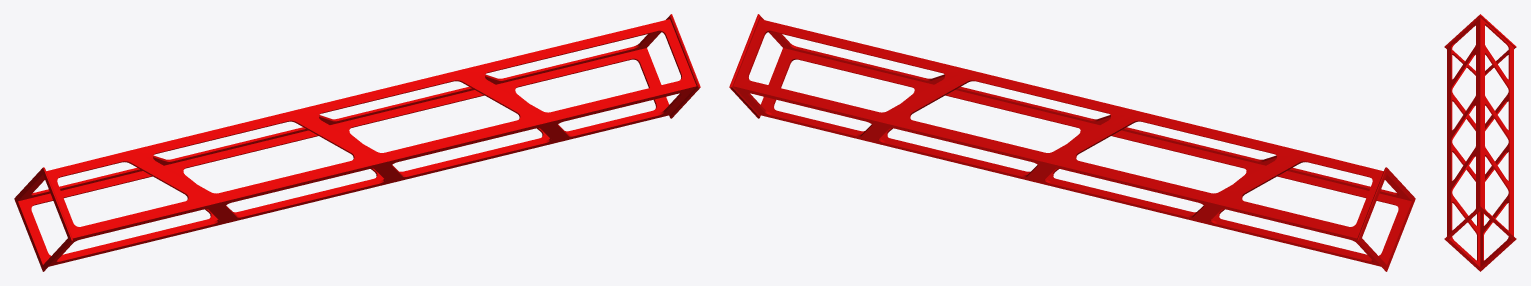
File: Support_1.fbx
3 views of the same model, side by side, from view 1: azimuth 30°, elevation 25°; view 2: azimuth 150°, elevation 25°; view 3: azimuth 270°, elevation 25° (orthographic). The views are drawn at different scales.
Parts seen in each view (by area): view 1: L4:polySurface1; view 2: L4:polySurface1; view 3: L4:polySurface1.
Boxes of the visible parts, left/top/right/bottom form: L4:polySurface1: left=14, top=14, right=700, bottom=271; L4:polySurface1: left=729, top=14, right=1415, bottom=271; L4:polySurface1: left=1444, top=14, right=1516, bottom=271.
Size of the model in its own units: 602 by 95.53 by 95.53.
